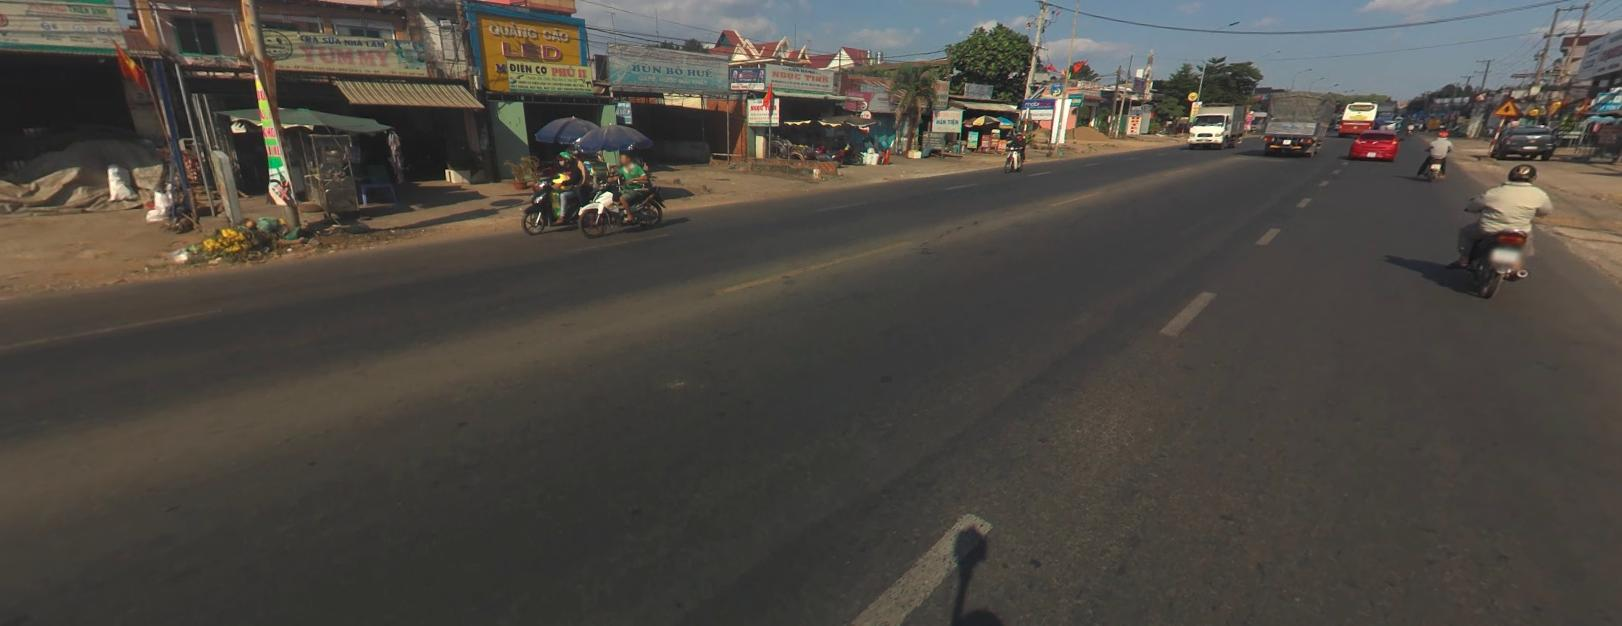Nguy hiem: (1493, 98, 1519, 115), (1494, 97, 1516, 115)
